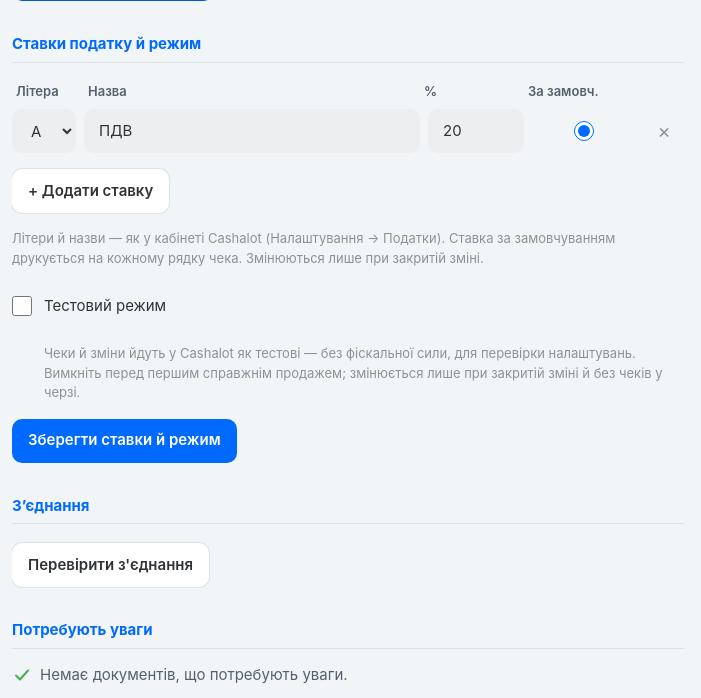
CashalotAdminPage › shows the server’s refusal in its own words
(page scrolled)
Click the button "Зберегти ставки й режим": coordinates (124, 440) [12,418,237,462]
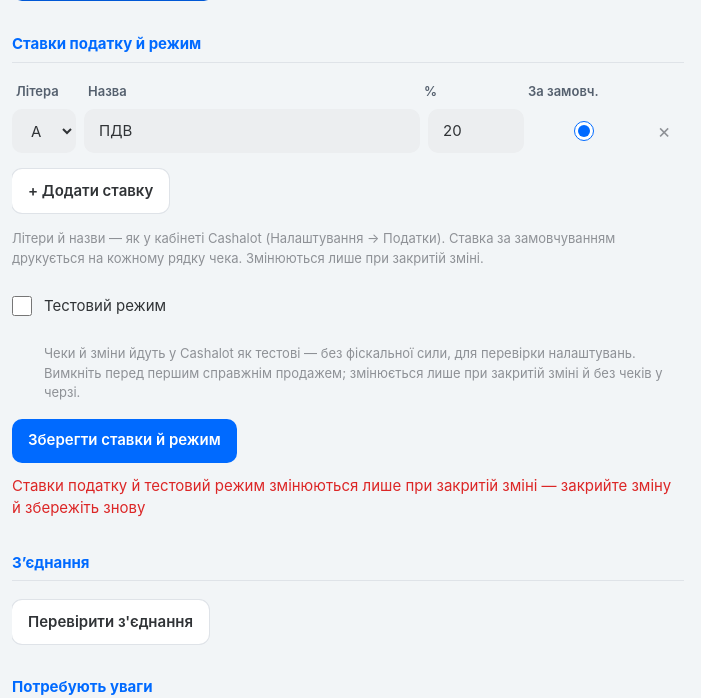
Expected: the text "закрийте зміну й збережіть знову" is shown, [12,476,671,517]
